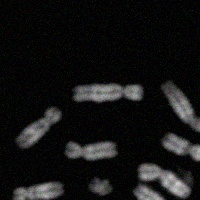chromosome: (160, 81, 200, 138), (136, 162, 191, 199), (12, 107, 59, 150), (73, 82, 143, 104), (63, 139, 118, 165), (10, 180, 61, 200), (163, 133, 200, 160), (130, 184, 167, 200), (171, 198, 196, 200)
